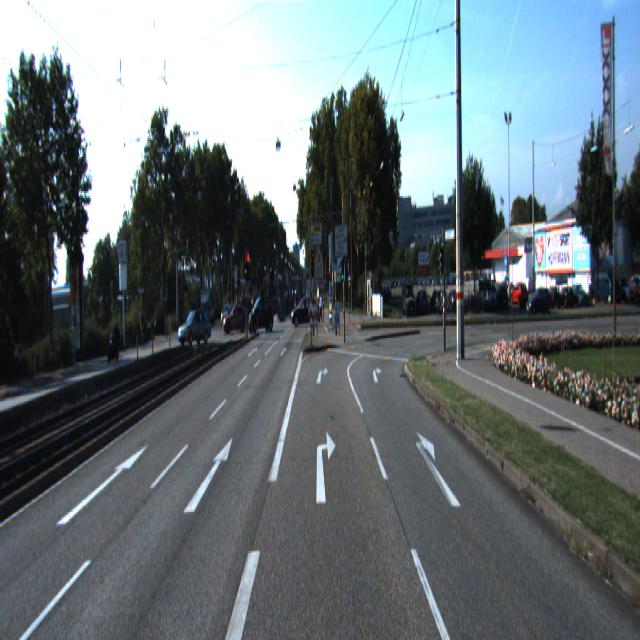Car: (178, 307, 212, 350), (247, 294, 274, 334), (222, 305, 249, 337), (108, 318, 122, 366)
